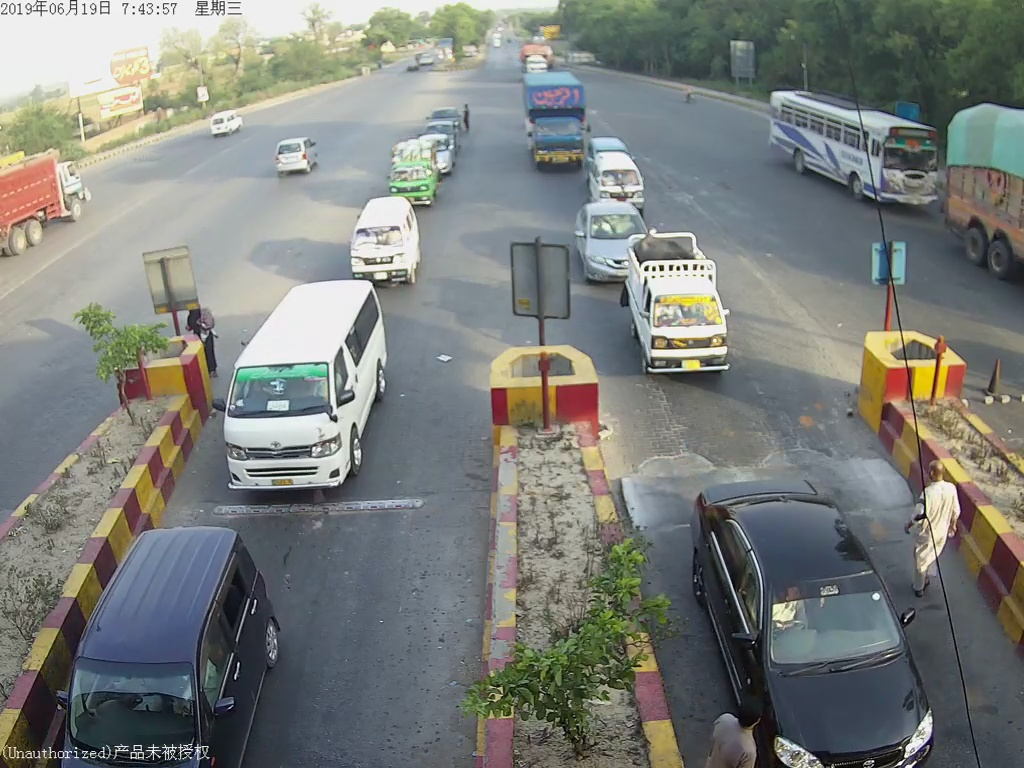Cat-1: (694, 485, 922, 768), (629, 237, 731, 378), (346, 200, 419, 278)
Cat-2: (224, 285, 389, 495), (521, 83, 584, 176)
